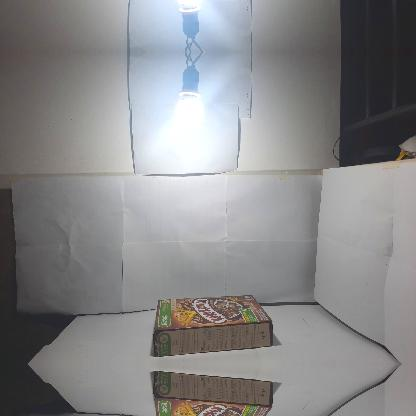Koko-Krunch: (154, 294, 272, 356), (153, 372, 273, 415)
